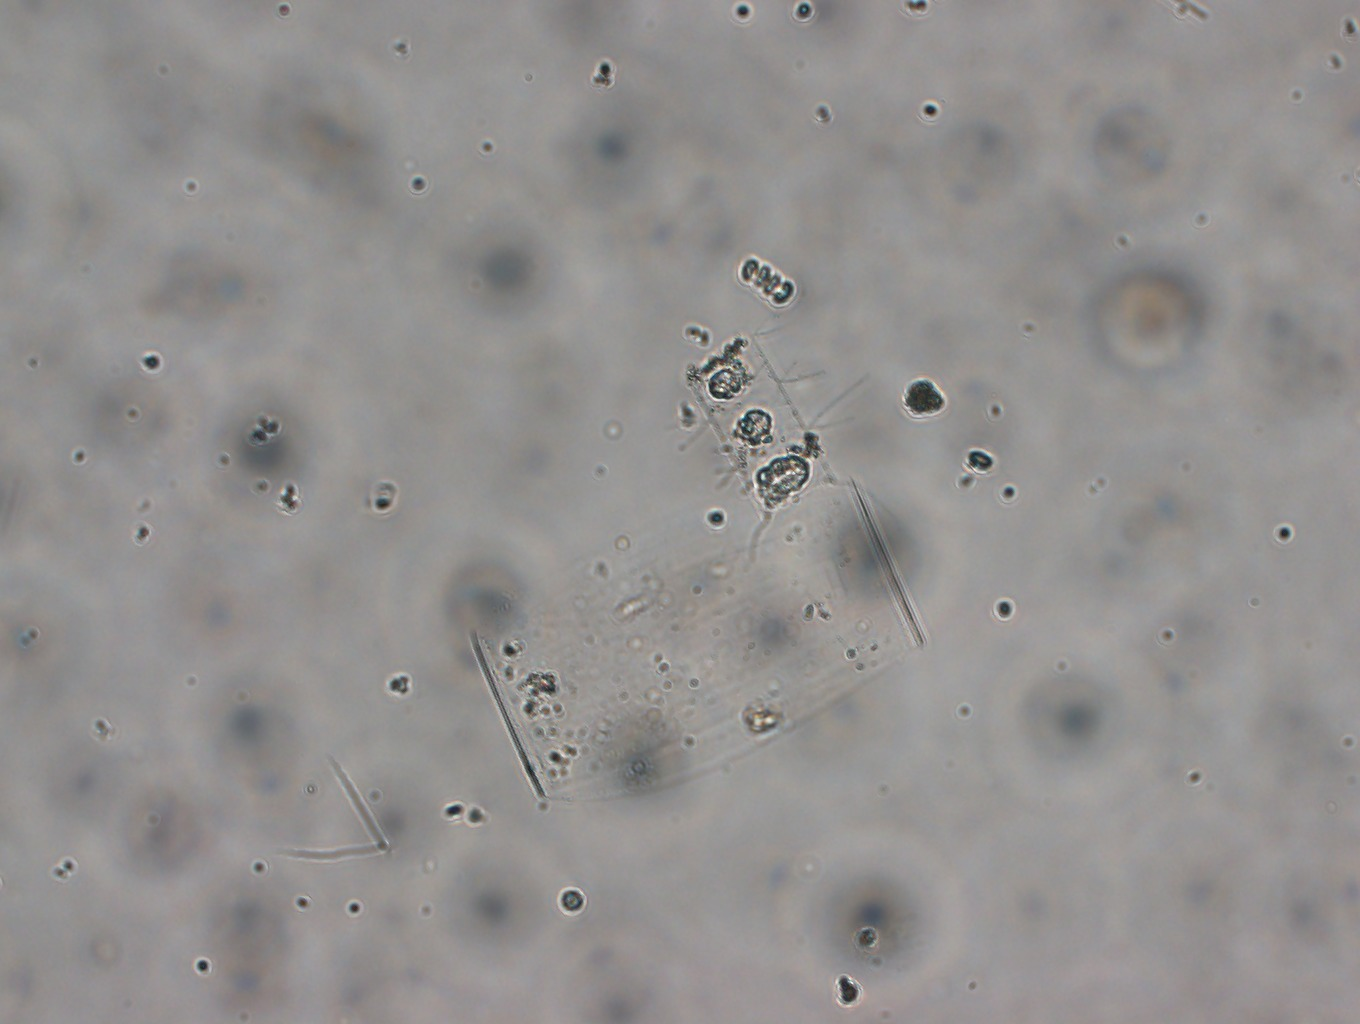chaetoceros: (640, 307, 893, 556)
